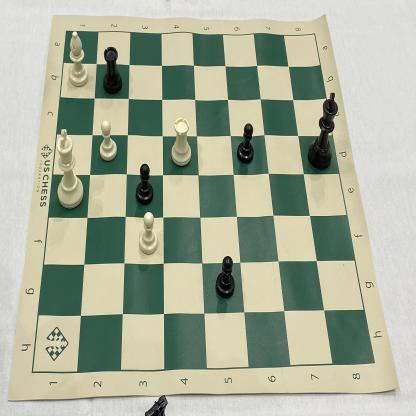black-king: (305, 88, 341, 173)
black-pawn: (213, 249, 238, 302), (133, 161, 156, 207), (236, 119, 256, 169)
black-rook: (100, 44, 124, 97)
white-bishop: (66, 28, 89, 90)
white-king: (53, 127, 87, 213)
white-pawn: (137, 210, 162, 257), (96, 116, 120, 163)
white-rook: (169, 115, 194, 170)
